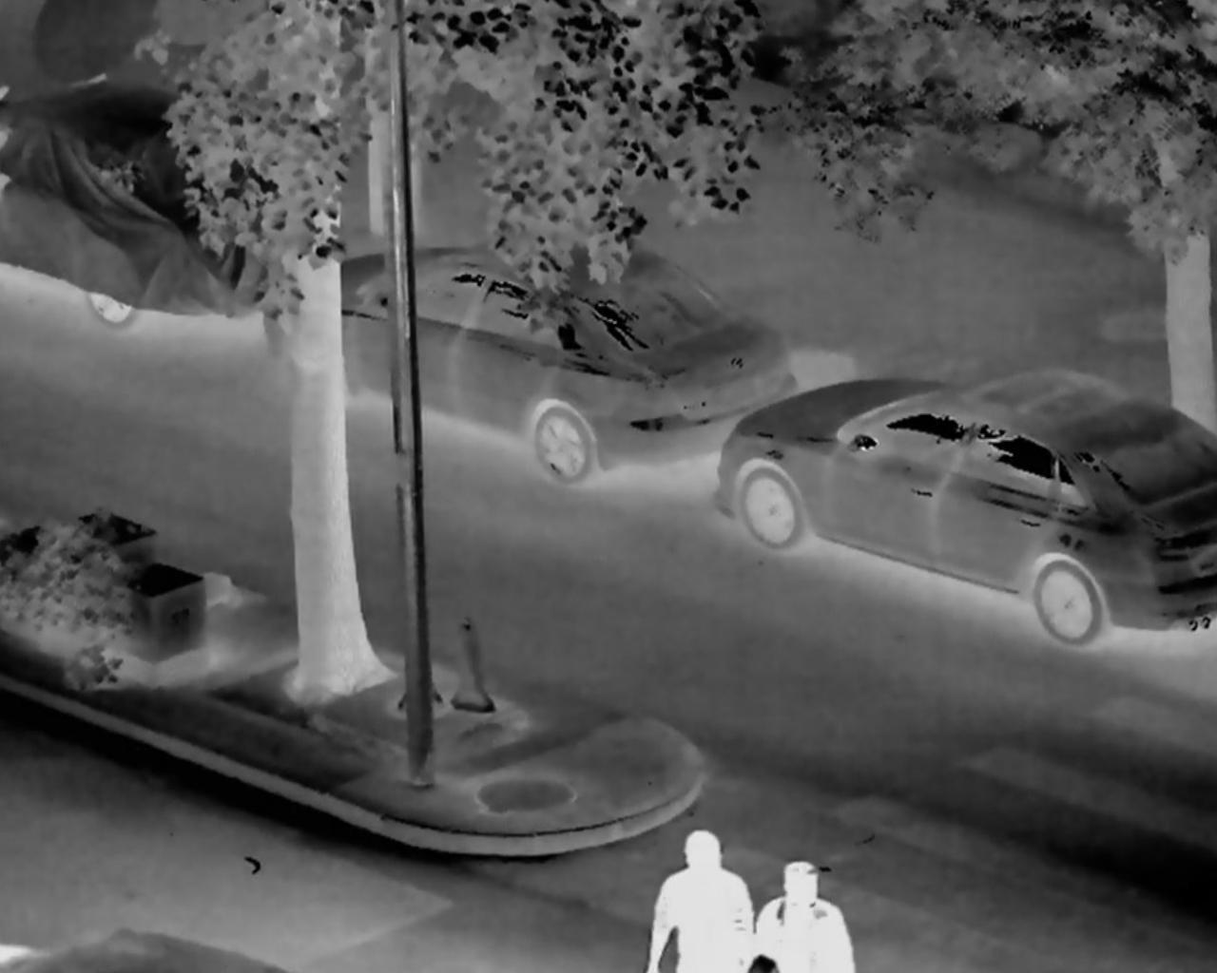person: (647, 818, 759, 973), (740, 853, 864, 973)
